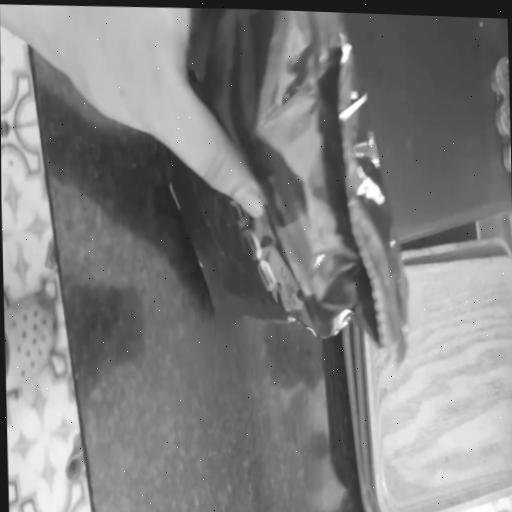cafe_hat: (170, 9, 407, 375)
